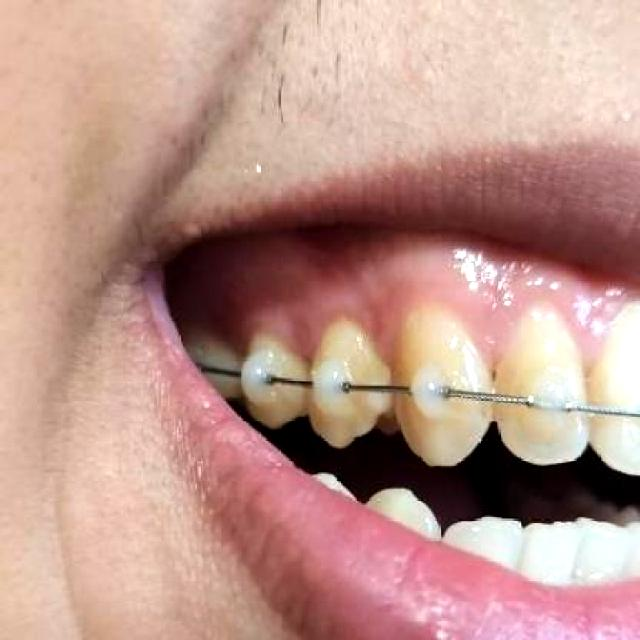Plaque: (248, 287, 413, 366)
